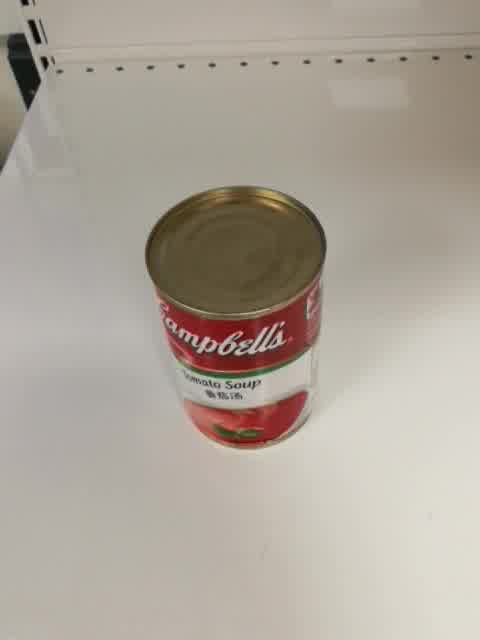tomatosoup: (142, 185, 327, 452)
